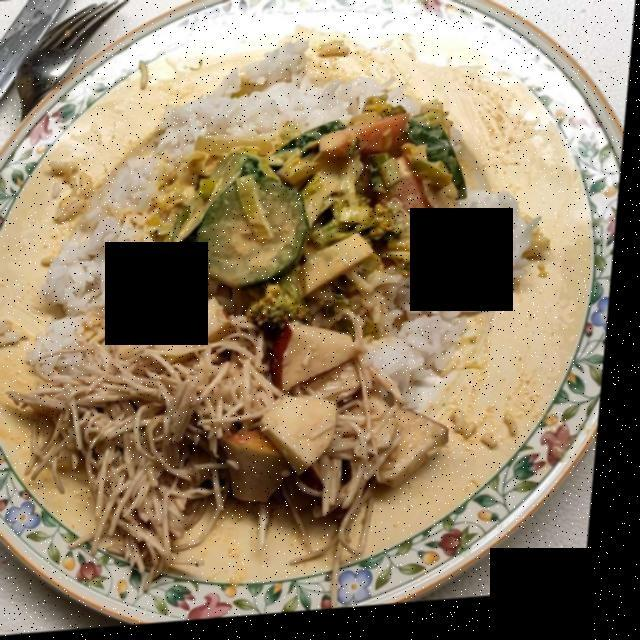apple: (236, 333, 460, 500)
celeriac: (9, 342, 396, 578)
curry-vegetarian: (162, 111, 458, 335)
rice: (37, 47, 537, 411)
